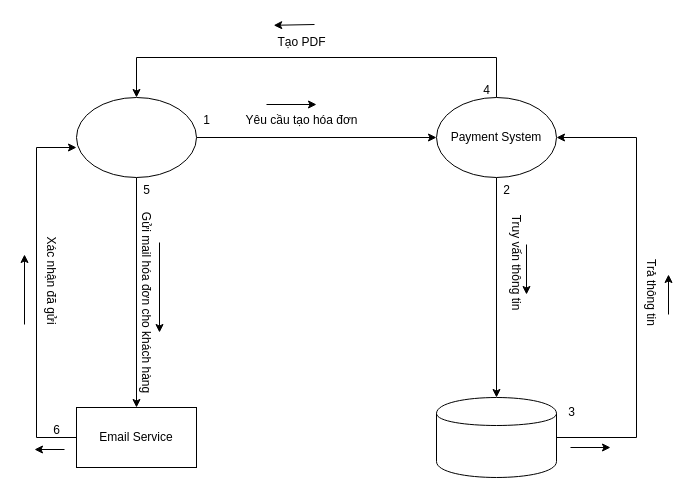
This 694x495 diagram has some shape labels left out. Each missing label, with the centre of its shape:
Database: (x=496, y=437)
System: (x=136, y=137)
